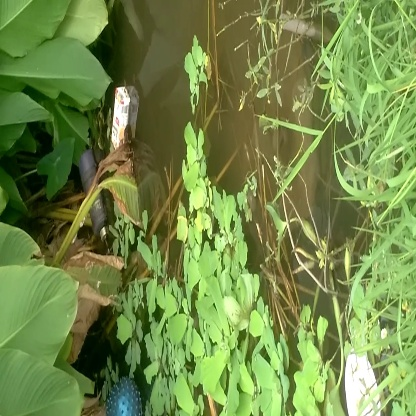milk-box: (107, 85, 145, 150)
